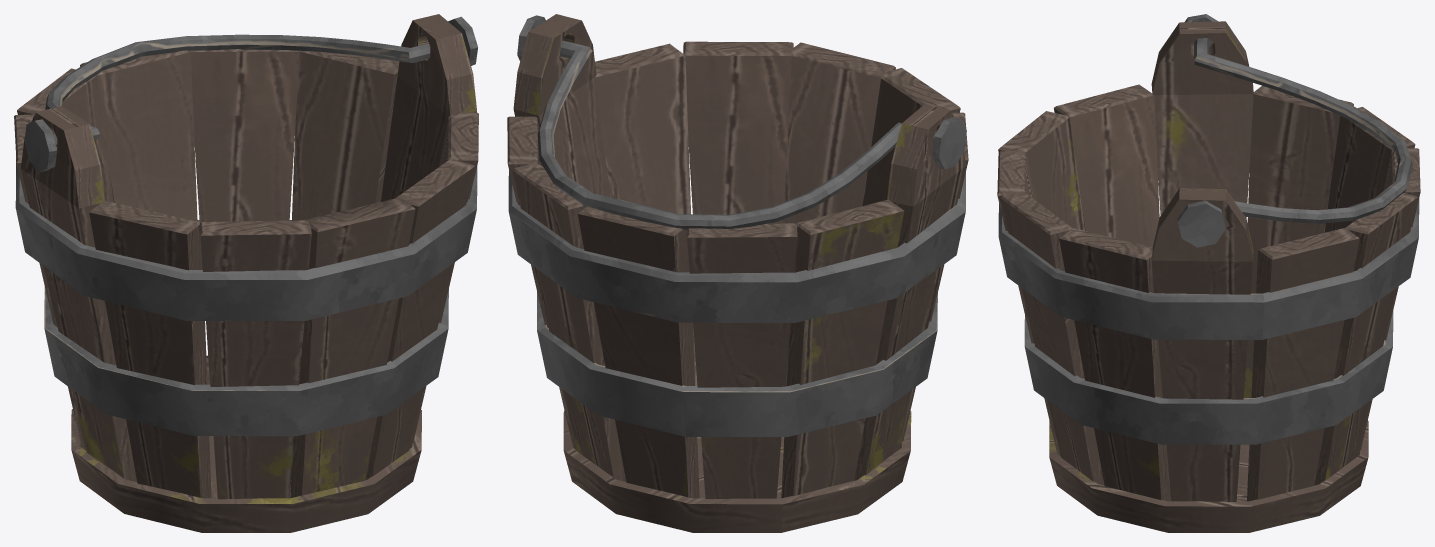
File: SM_Bucket.fbx
3 views of the same model, side by side, from view 1: azimuth 30°, elevation 25°; view 2: azimuth 150°, elevation 25°; view 3: azimuth 270°, elevation 25° (orthographic). The views are drawn at different scales.
Visible parts, largest first — view 1: SM_Bucket; view 2: SM_Bucket; view 3: SM_Bucket.
Part boxes in pixels (left/top/right/bottom): SM_Bucket: left=14, top=14, right=478, bottom=532; SM_Bucket: left=507, top=14, right=968, bottom=532; SM_Bucket: left=997, top=14, right=1420, bottom=532.
Size of the model in its own units: 17.04 by 14.99 by 15.98.
